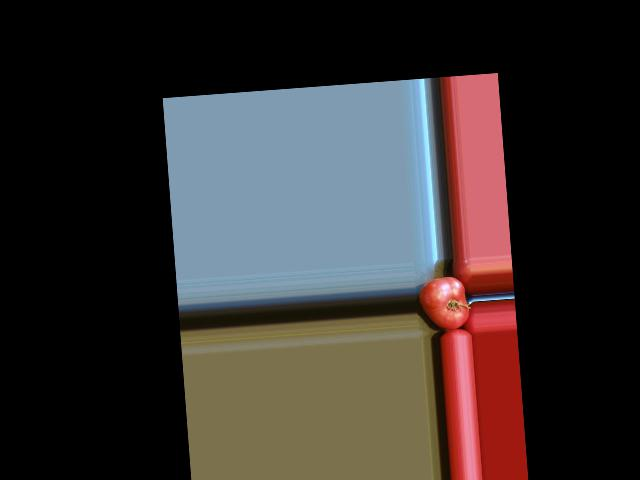tomato: (417, 275, 469, 331)
